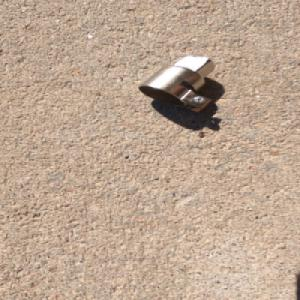MetalPart: (136, 53, 216, 112)
